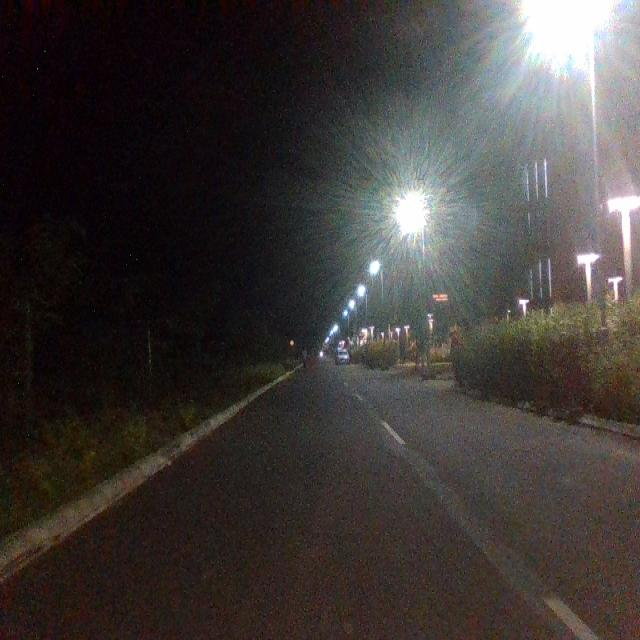lane: (0, 367, 582, 640)
